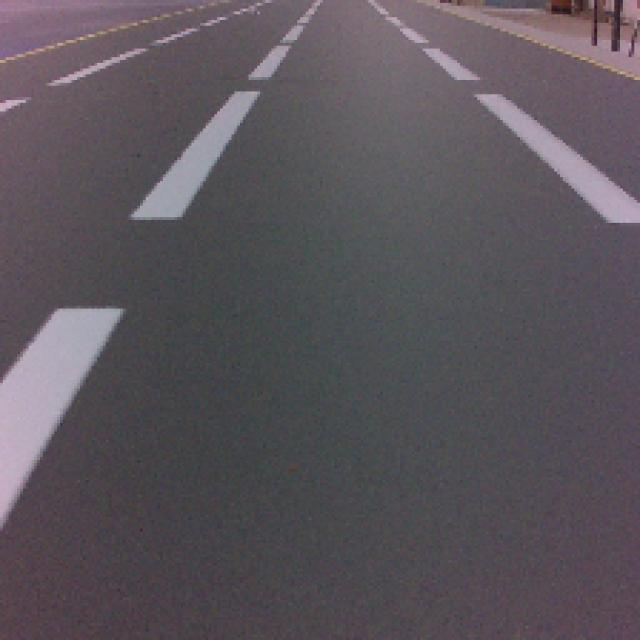Road: (0, 377, 640, 640)
